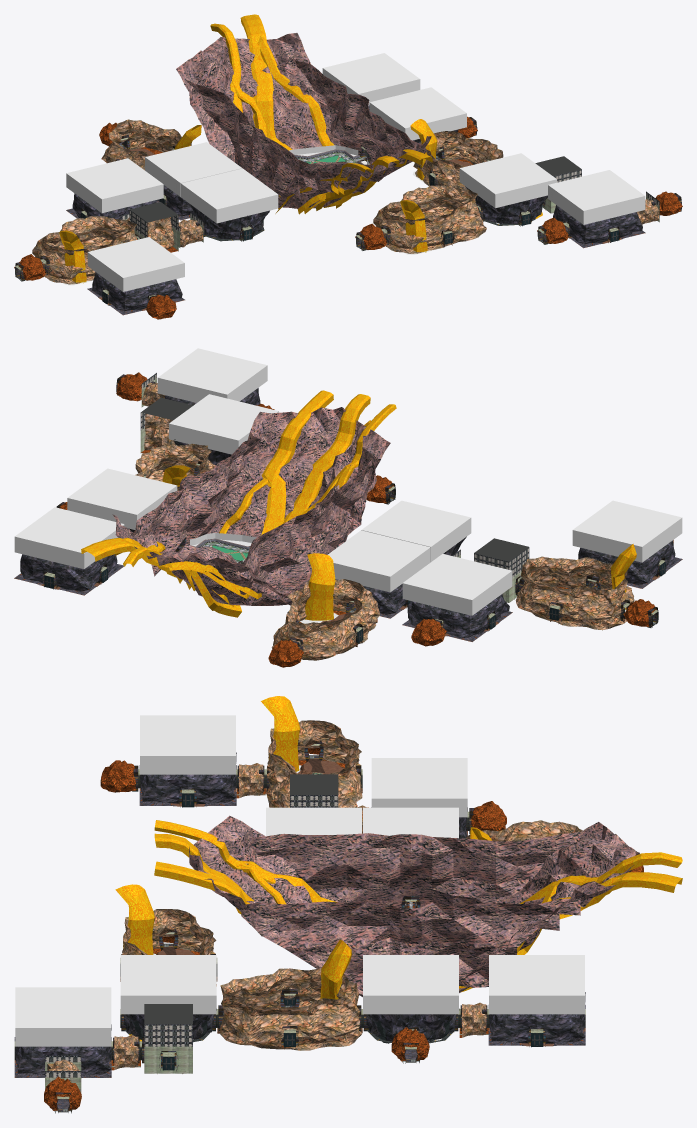
File: caves-01.obj
3 renders of one model, top to bottom at view 1: azimuth 30°, elevation 25°; view 2: azimuth 150°, elevation 25°; view 3: azimuth 270°, elevation 25°, orthographic. The views are drawn at different scales.
Parts seen in each view (by area): view 1: mesh_639, mesh_535, mesh_642, mesh_641, mesh_341, mesh_387, mesh_798, mesh_364, mesh_823, mesh_451, mesh_848, mesh_410 (+26 smaller); view 2: mesh_640, mesh_642, mesh_451, mesh_641, mesh_577, mesh_341, mesh_387, mesh_318, mesh_364, mesh_410, mesh_848, mesh_639 (+24 smaller); view 3: mesh_642, mesh_641, mesh_493, mesh_364, mesh_387, mesh_410, mesh_848, mesh_639, mesh_823, mesh_640, mesh_341, mesh_451 (+29 smaller).
Part boxes in pixels (x1=…): mesh_639: x1=176, y1=33, x2=340, y2=162; mesh_535: x1=373, y1=185, x2=486, y2=253; mesh_642: x1=185, y1=79, x2=321, y2=203; mesh_641: x1=287, y1=56, x2=421, y2=176; mesh_341: x1=66, y1=158, x2=163, y2=213; mesh_387: x1=87, y1=237, x2=184, y2=291; mesh_798: x1=181, y1=168, x2=278, y2=223; mesh_364: x1=548, y1=170, x2=645, y2=224; mesh_823: x1=459, y1=153, x2=556, y2=208; mesh_451: x1=32, y1=216, x2=137, y2=284; mesh_848: x1=369, y1=87, x2=466, y2=140; mesh_410: x1=322, y1=53, x2=420, y2=105; mesh_640: x1=207, y1=407, x2=390, y2=549; mesh_642: x1=235, y1=460, x2=376, y2=605; mesh_451: x1=515, y1=556, x2=634, y2=630; mesh_641: x1=130, y1=430, x2=262, y2=577; mesh_577: x1=271, y1=579, x2=379, y2=660; mesh_341: x1=402, y1=554, x2=512, y2=615; mesh_387: x1=572, y1=500, x2=682, y2=562; mesh_318: x1=327, y1=530, x2=430, y2=592; mesh_364: x1=157, y1=348, x2=267, y2=402; mesh_410: x1=14, y1=507, x2=124, y2=568; mesh_848: x1=67, y1=468, x2=177, y2=529; mesh_639: x1=112, y1=514, x2=294, y2=605; mesh_642: x1=249, y1=832, x2=580, y2=908; mesh_641: x1=241, y1=898, x2=580, y2=996; mesh_493: x1=220, y1=968, x2=361, y2=1050; mesh_364: x1=15, y1=987, x2=111, y2=1046; mesh_387: x1=140, y1=715, x2=235, y2=774; mesh_410: x1=489, y1=955, x2=584, y2=1014; mesh_848: x1=363, y1=955, x2=458, y2=1014; mesh_639: x1=459, y1=822, x2=639, y2=992; mesh_823: x1=120, y1=955, x2=216, y2=1014; mesh_640: x1=189, y1=815, x2=362, y2=994; mesh_341: x1=371, y1=758, x2=467, y2=817; mesh_451: x1=266, y1=720, x2=362, y2=807.
Size of the model in its own units: 3645 by 719 by 2760.
Materials: 39 (37 with a texture image).
